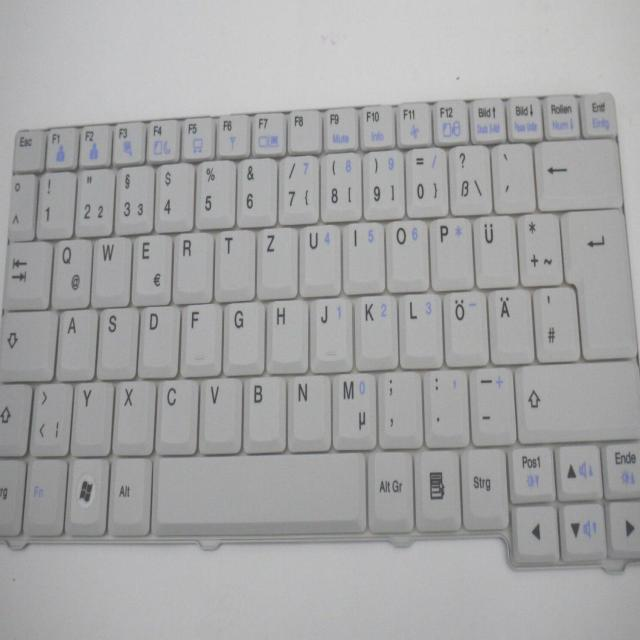0: (404, 143, 447, 216)
1: (36, 168, 75, 237)
2: (74, 165, 113, 234)
3: (114, 161, 153, 232)
4: (154, 157, 193, 229)
5: (194, 155, 235, 227)
6: (235, 154, 276, 225)
7: (277, 151, 318, 222)
8: (319, 149, 361, 219)
9: (362, 147, 404, 218)
a: (55, 305, 96, 378)
accent: (491, 138, 533, 211)
ae: (487, 285, 534, 362)
alt-left: (108, 453, 150, 534)
altgr-right: (366, 448, 413, 531)
b: (241, 372, 286, 450)
c: (153, 376, 198, 453)
caret: (7, 172, 35, 239)
comma: (376, 367, 422, 446)
d: (137, 301, 179, 375)
del: (531, 134, 622, 207)
e: (131, 231, 171, 303)
enter: (559, 206, 639, 360)
f: (180, 299, 221, 373)
g: (222, 296, 263, 371)
h: (265, 296, 308, 371)
hash: (531, 282, 579, 361)
i: (341, 219, 384, 291)
j: (309, 295, 351, 370)
k: (354, 292, 397, 369)
keyboard: (0, 88, 640, 570)
l: (398, 291, 442, 366)
less: (29, 379, 72, 455)
m: (331, 370, 376, 449)
minus: (468, 363, 516, 444)
n: (286, 371, 330, 449)
o: (384, 217, 428, 290)
oe: (442, 288, 488, 365)
p: (428, 214, 473, 288)
plus: (516, 209, 562, 284)
point: (422, 367, 469, 445)
q: (50, 236, 91, 306)
r: (171, 230, 213, 302)
s: (96, 304, 137, 377)
shift-left: (0, 380, 29, 454)
shift-lock: (0, 307, 55, 379)
shift-right: (512, 357, 640, 440)
space: (153, 449, 365, 531)
ss: (447, 140, 491, 213)
strg-left: (0, 454, 24, 535)
strg-right: (460, 445, 508, 528)
t: (214, 227, 254, 299)
tab: (2, 236, 50, 306)
u: (297, 221, 340, 294)
ue: (473, 212, 518, 287)
v: (198, 373, 242, 452)
w: (91, 233, 130, 305)
x: (113, 377, 155, 453)
y: (70, 378, 112, 454)
z: (255, 224, 297, 297)
